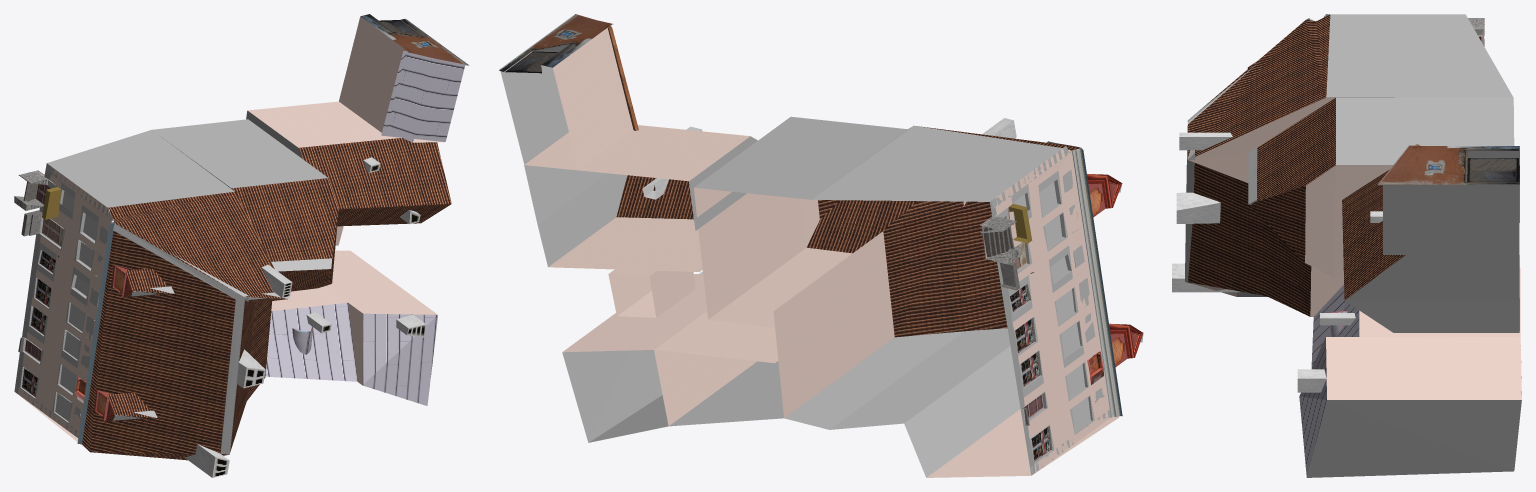
File: Raekoja-Plats-13-origo.obj
The picture shows the model from 3 angles, left to right: view 1: azimuth 30°, elevation 25°; view 2: azimuth 150°, elevation 25°; view 3: azimuth 270°, elevation 25°; orthographic projection. The views are drawn at different scales.
Visible parts, largest first — view 1: Raekoja_Plats_13; view 2: Raekoja_Plats_13; view 3: Raekoja_Plats_13.
Boxes of the visible parts, bbox=[...] form: Raekoja_Plats_13: bbox=[14, 14, 469, 477]; Raekoja_Plats_13: bbox=[499, 14, 1143, 477]; Raekoja_Plats_13: bbox=[1172, 14, 1521, 477].
Bounding box in the file's own units: 33.25 × 23.5 × 21.44.
